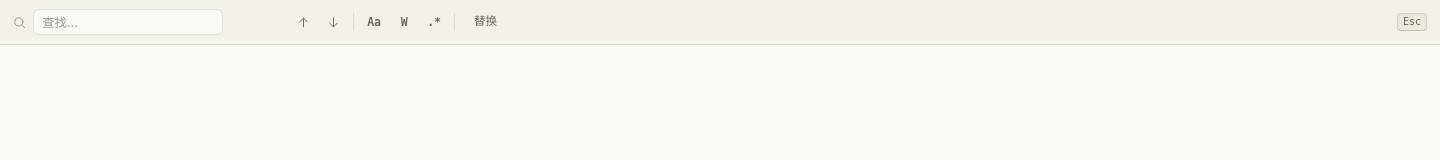
Test case: FindReplaceBar › regex mode: invalid pattern shows the invalid-regex hint
Click the button titled "正则表达式". click: {"x": 434, "y": 22}
box: x1=422 y1=10 x2=446 y2=34
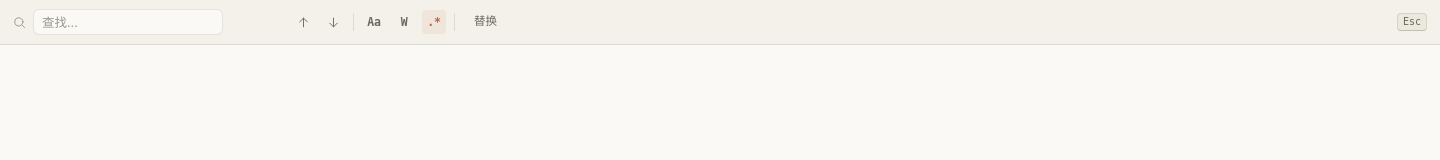
Type "(unclosed" into the field with placeholder "查找...". click: {"x": 128, "y": 22}
box: x1=33 y1=9 x2=223 y2=35
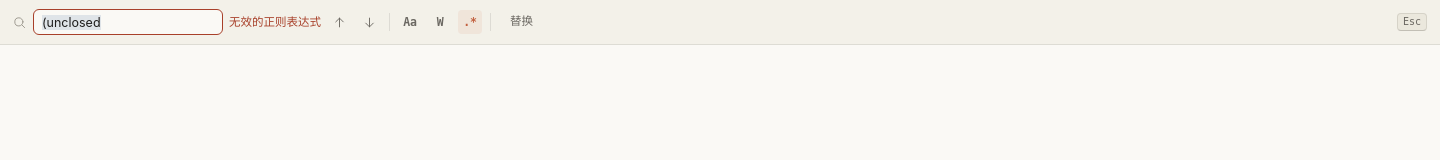
Check: the text "无效的正则表达式" is shown, box x1=229 y1=14 x2=321 y2=30
